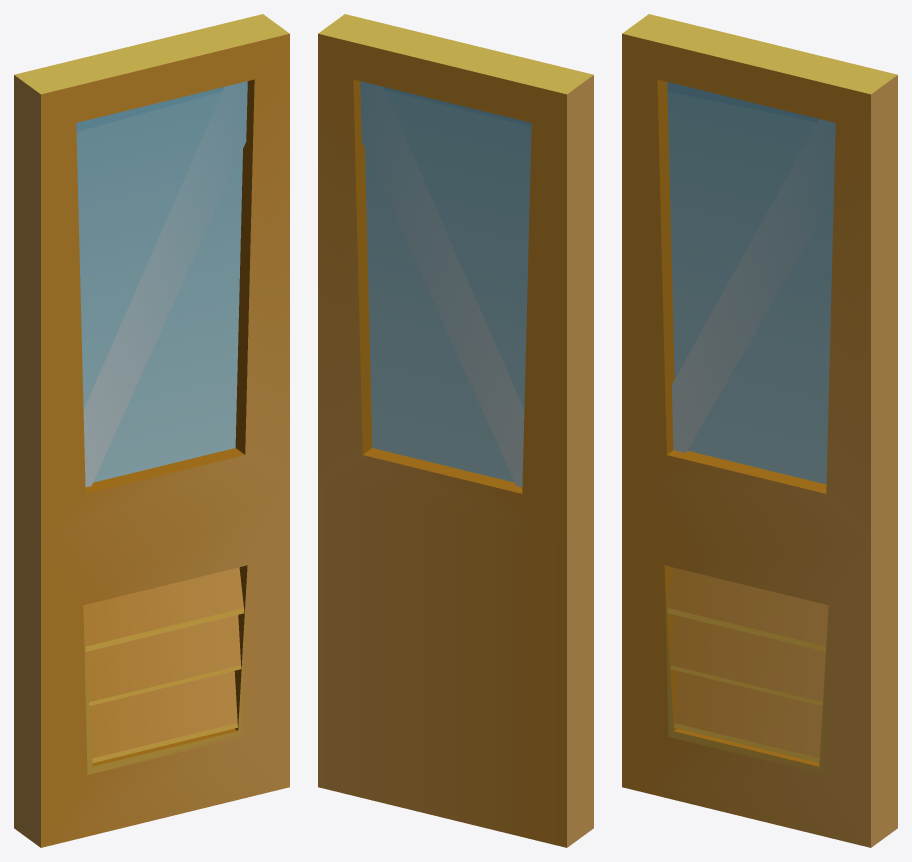
The model's file is Cafe_Door.glb.
3 renders of one model, left to right at view 1: azimuth 30°, elevation 25°; view 2: azimuth 150°, elevation 25°; view 3: azimuth 330°, elevation 25°, orthographic.
Visible parts, largest first — view 1: Cafe_Door; view 2: Cafe_Door; view 3: Cafe_Door.
Boxes of the visible parts, bbox=[...] form: Cafe_Door: bbox=[14, 14, 289, 847]; Cafe_Door: bbox=[318, 14, 593, 847]; Cafe_Door: bbox=[622, 14, 897, 847].
Bounding box in the file's own units: 0.6247 × 1.81 × 0.1169.
